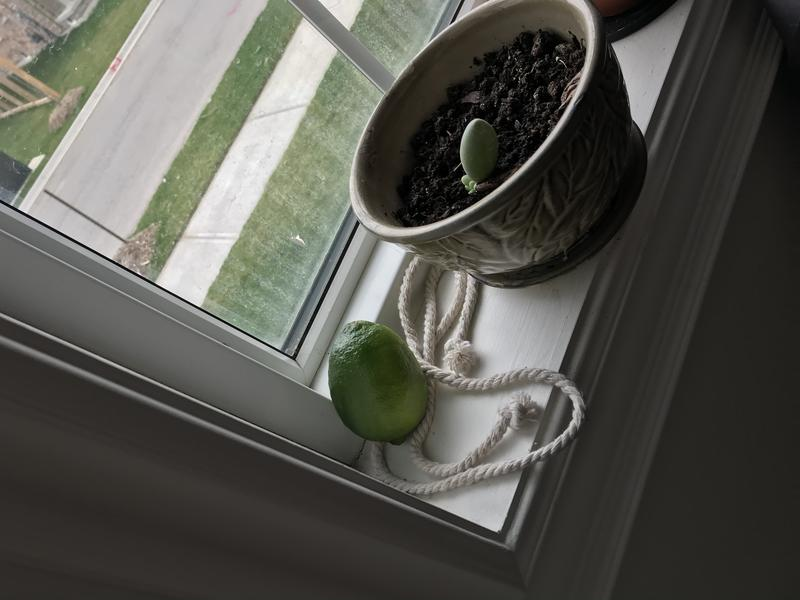lime: (320, 310, 443, 447)
